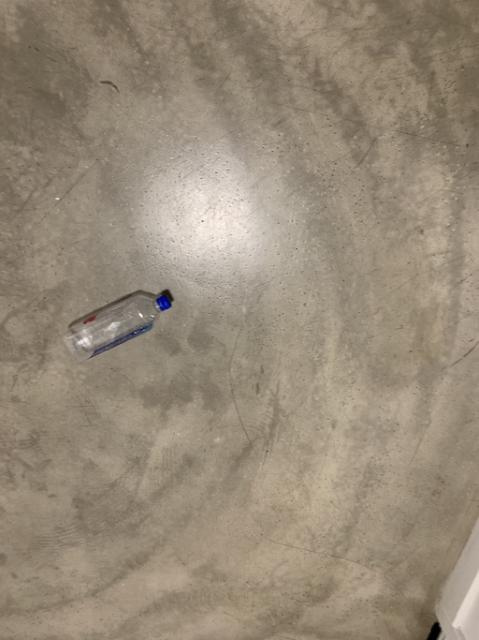plastic: (63, 289, 171, 360)
